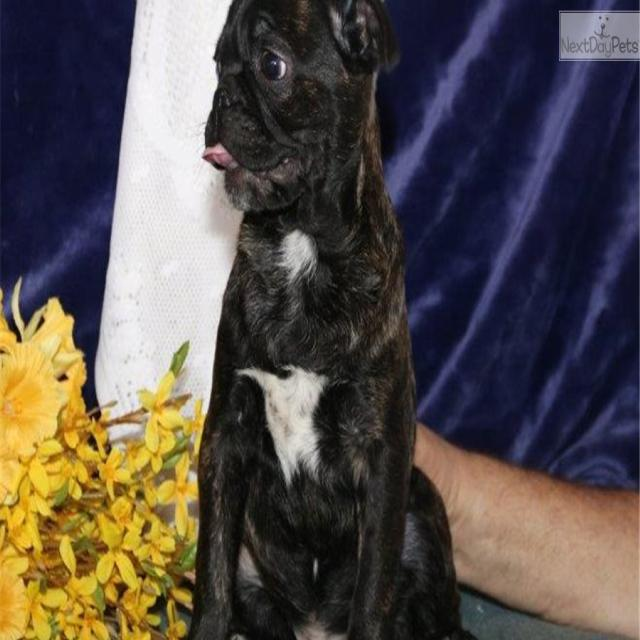dog: (170, 0, 433, 271)
